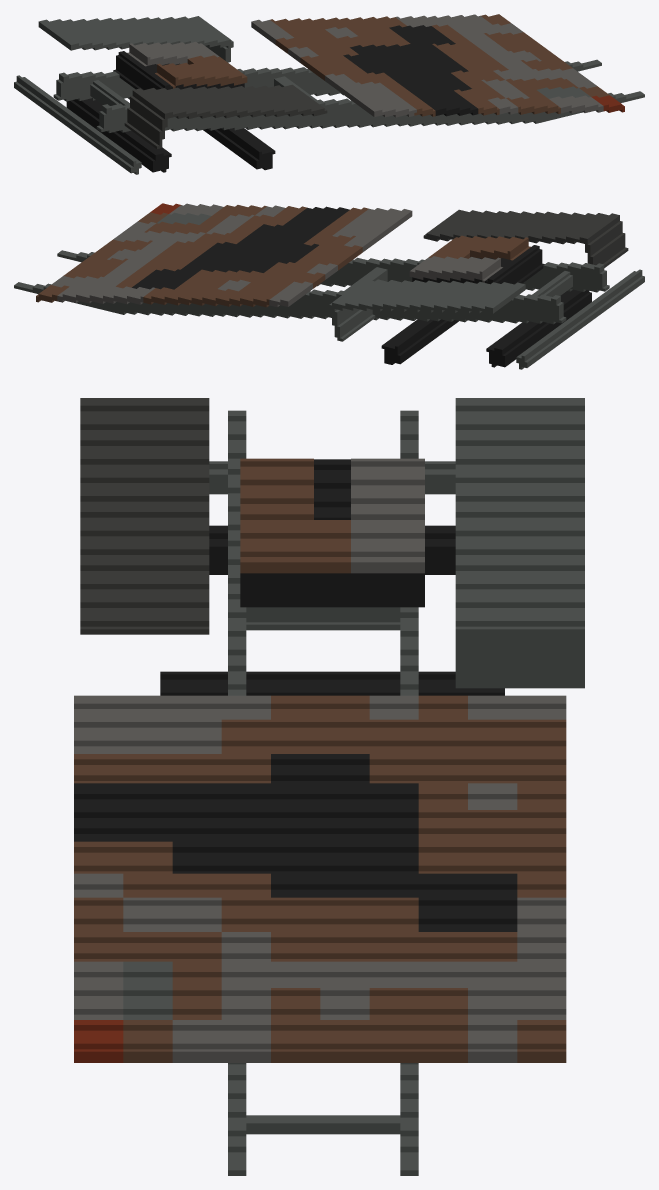
Rendered from jackknifed_lorry_cab_chassis.glb.
The picture shows the model from 3 angles, top to bottom: view 1: azimuth 30°, elevation 25°; view 2: azimuth 150°, elevation 25°; view 3: azimuth 270°, elevation 25°; orthographic projection. The views are drawn at different scales.
Visible parts, largest first — view 1: body:compound; view 2: body:compound; view 3: body:compound.
Part boxes in pixels (box(x1,y1,x2,y2)): body:compound: box(14, 14, 644, 174); body:compound: box(14, 203, 644, 369); body:compound: box(74, 398, 584, 1175).
Size of the model in its own units: 6.41 by 1.53 by 2.59.
